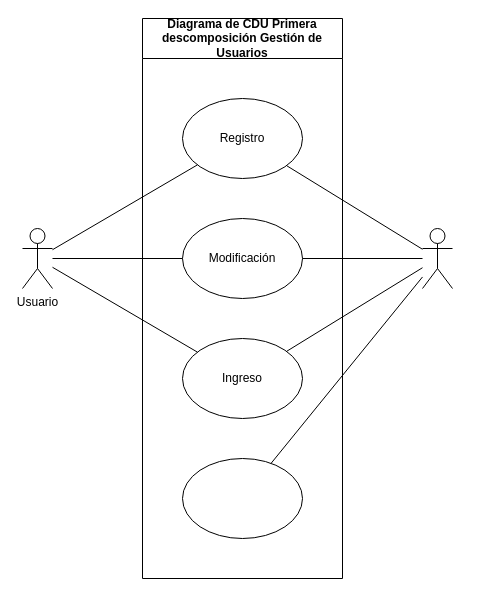
This 492x596 diagram has some shape labels left out. The shapes that lost their labels are listed below. From the top down, each one's centre as x and y in pixels, then its label:
At (x=437, y=258): "Administrador".
At (x=242, y=498): "Listar".
